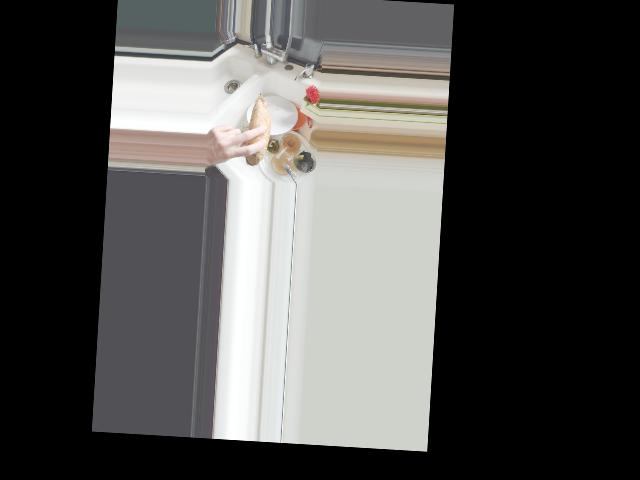sweet_potato: (240, 89, 272, 169)
